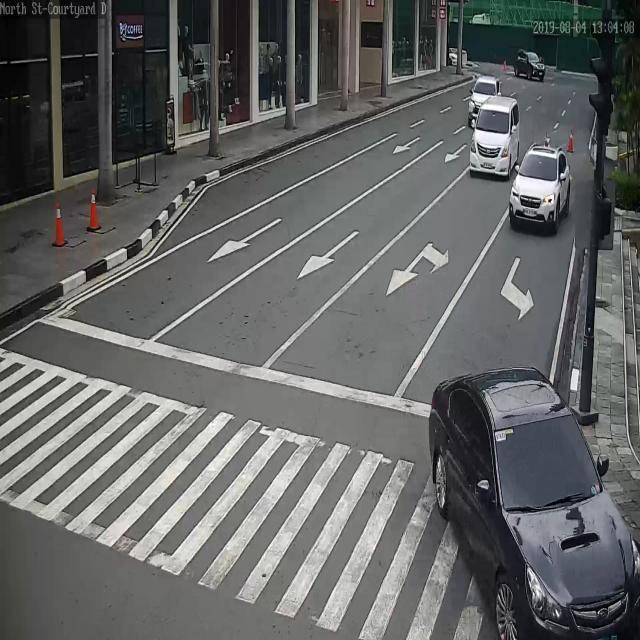car: (436, 366, 632, 640), (509, 144, 572, 229), (469, 76, 502, 113), (515, 50, 548, 81)
van: (470, 98, 521, 175)
